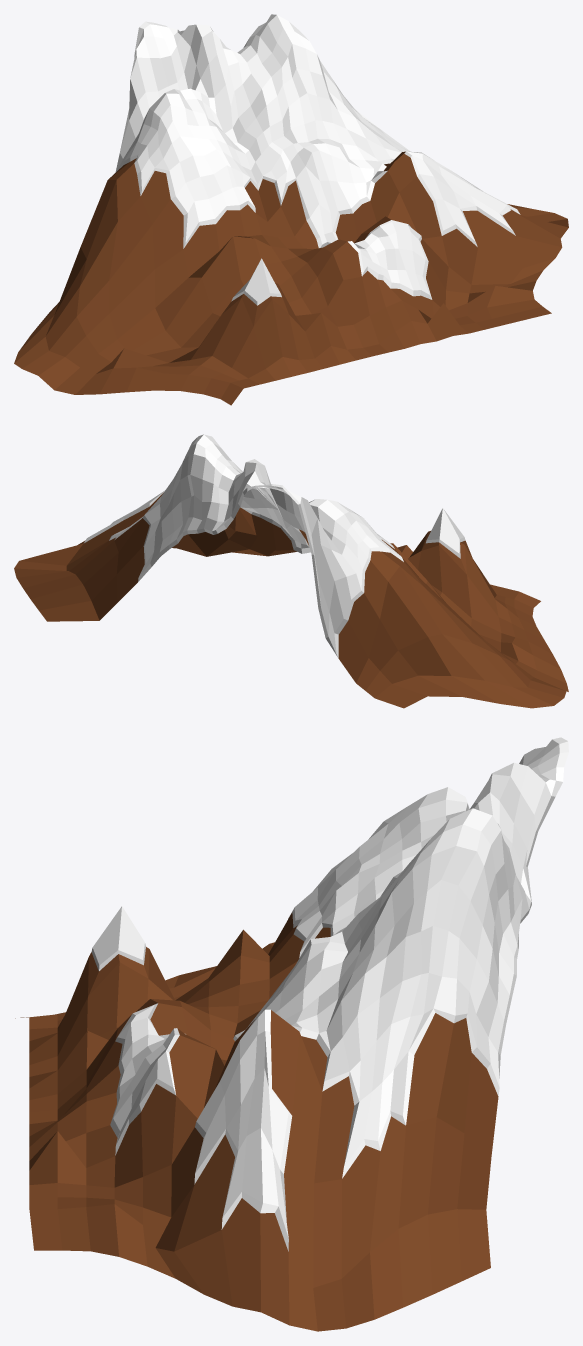
The model's file is Mountain.fbx.
The picture shows the model from 3 angles, top to bottom: view 1: azimuth 30°, elevation 25°; view 2: azimuth 150°, elevation 25°; view 3: azimuth 270°, elevation 25°; orthographic projection. The views are drawn at different scales.
Visible parts, largest first — view 1: Mountain; view 2: Mountain; view 3: Mountain.
Part boxes in pixels (bbox=[...]): Mountain: bbox=[14, 14, 568, 405]; Mountain: bbox=[14, 434, 568, 708]; Mountain: bbox=[15, 737, 568, 1331].
Bounding box in the file's own units: 40.83 × 17.5 × 23.26.
